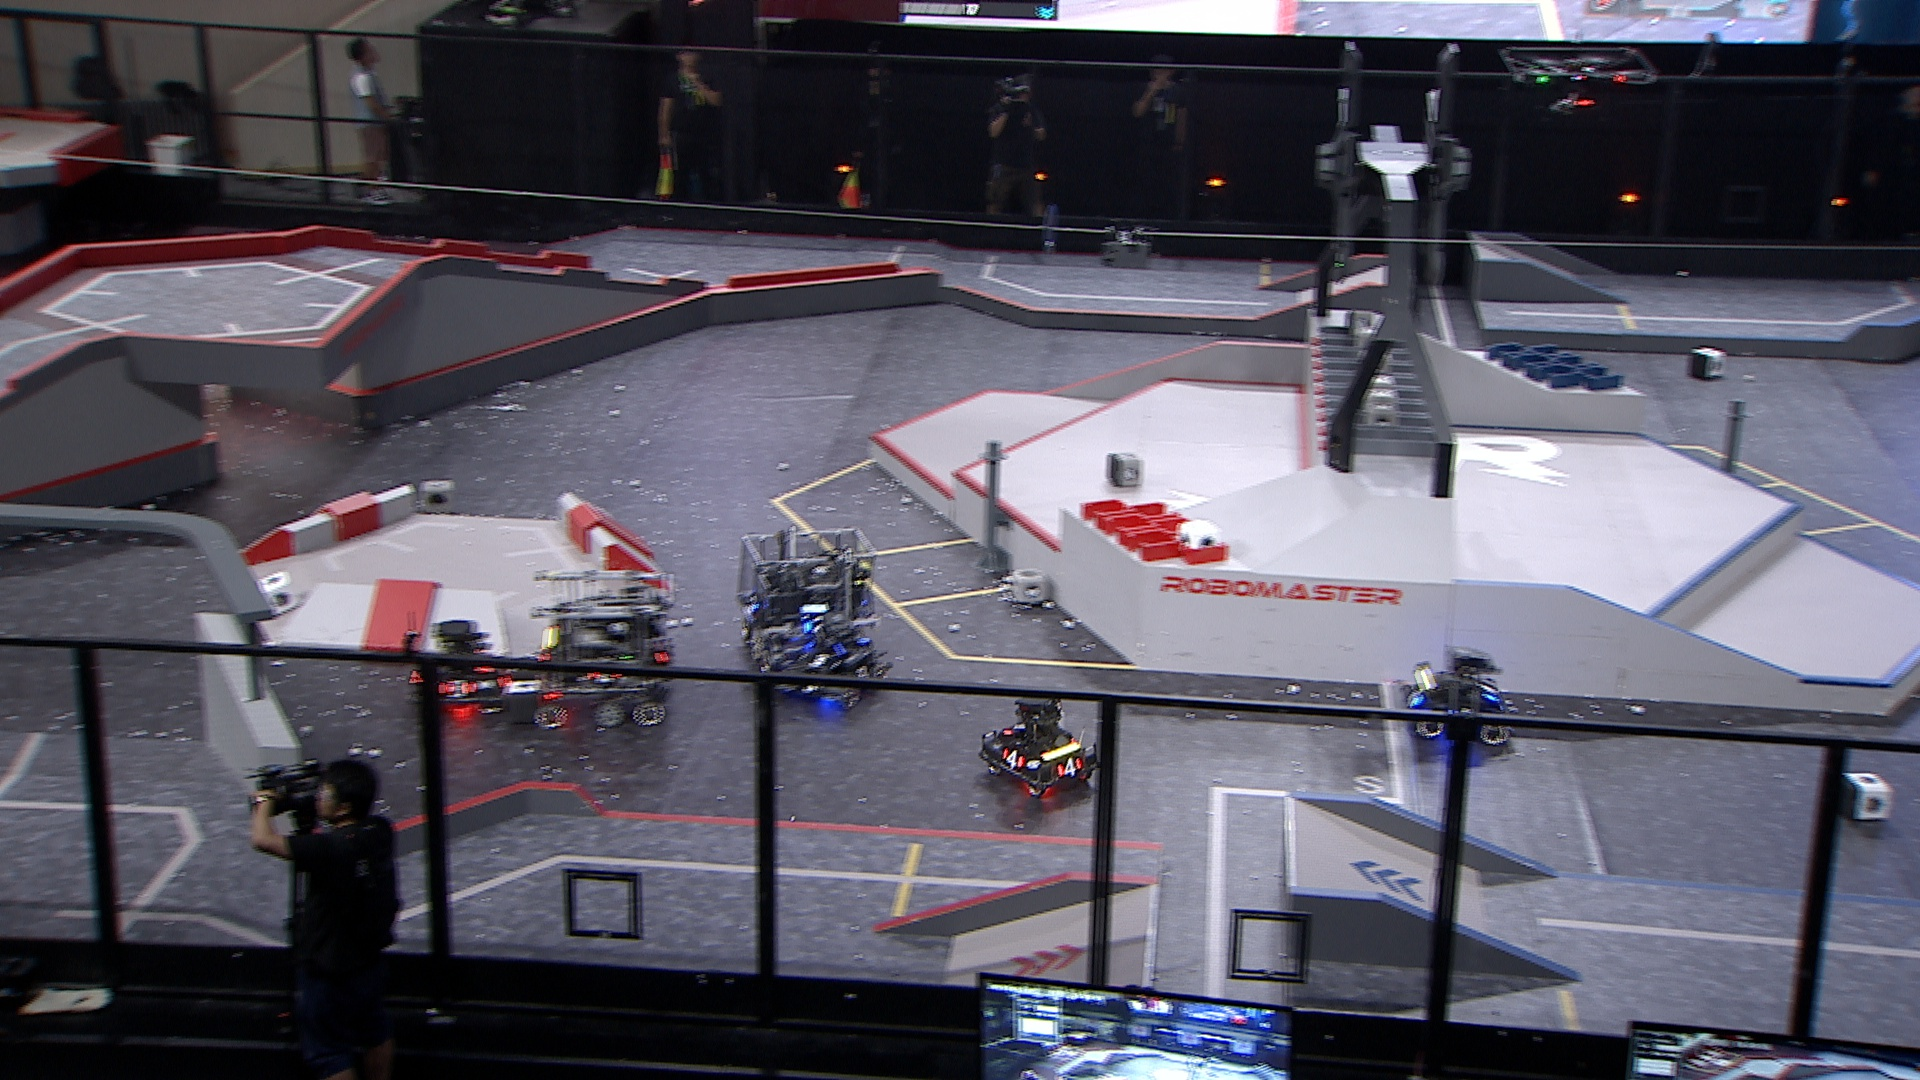armor: (798, 650, 844, 671), (436, 678, 476, 699), (1000, 746, 1026, 773), (1058, 756, 1084, 781), (1481, 680, 1503, 705), (588, 669, 622, 684), (803, 615, 828, 636), (745, 591, 764, 617), (1001, 719, 1026, 736), (1404, 690, 1424, 711), (855, 665, 880, 680)
car: (527, 560, 684, 732), (737, 524, 882, 669), (975, 692, 1100, 798), (775, 611, 893, 712), (406, 613, 512, 717), (1404, 647, 1515, 746)
